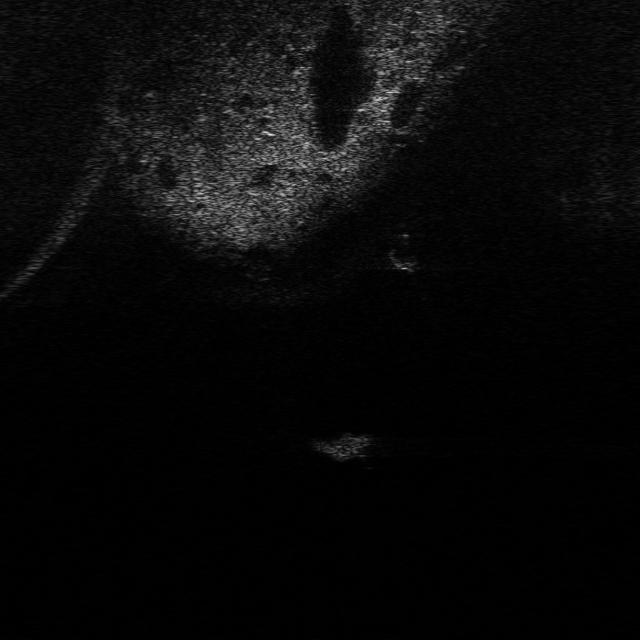ball: (383, 234, 423, 271)
cube: (306, 428, 378, 462)
